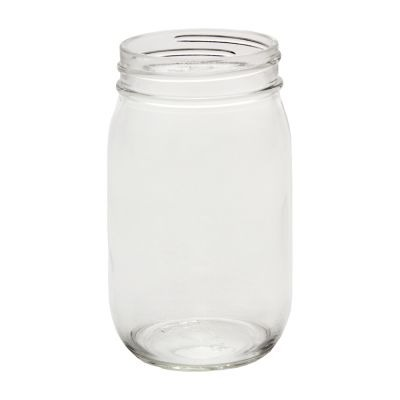container: (106, 23, 297, 375)
